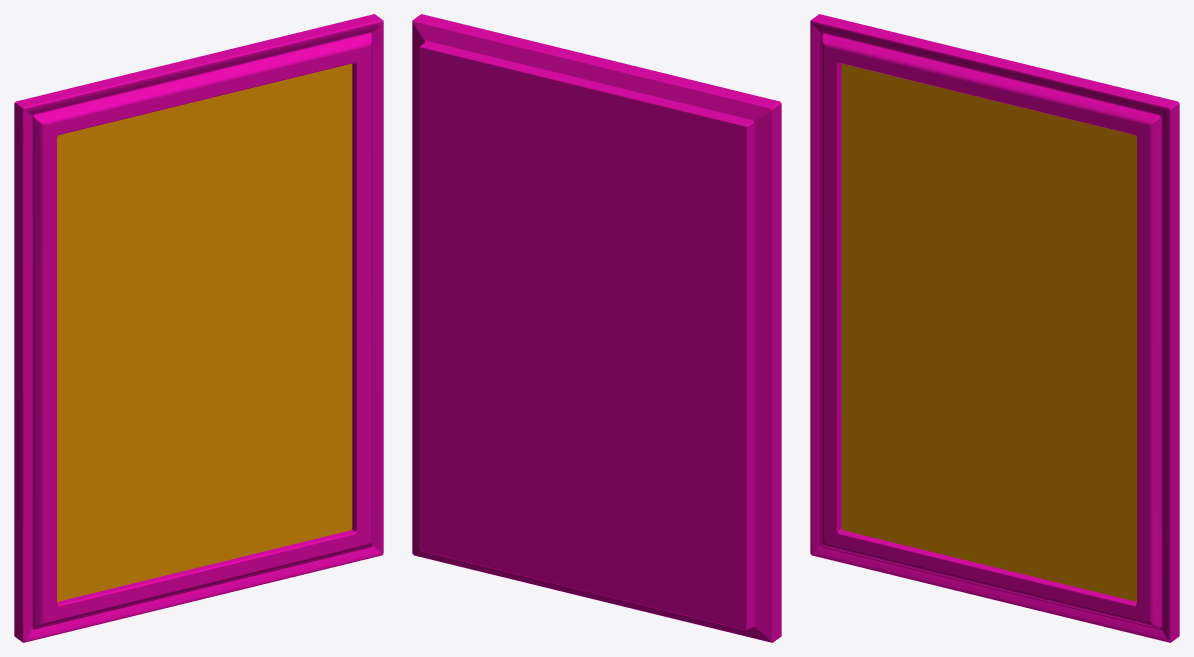
The model's file is FBX_NewspaperFrame_Small.fbx.
The picture shows the model from 3 angles, left to right: view 1: azimuth 30°, elevation 25°; view 2: azimuth 150°, elevation 25°; view 3: azimuth 330°, elevation 25°; orthographic projection.
Visible parts, largest first — view 1: Plano.001; view 2: Plano.001; view 3: Plano.001.
Part boxes in pixels (left/top/right/bottom): Plano.001: left=14, top=14, right=383, bottom=642; Plano.001: left=412, top=14, right=781, bottom=642; Plano.001: left=810, top=14, right=1179, bottom=642.
Size of the model in its own units: 55.59 by 78.66 by 5.93.
